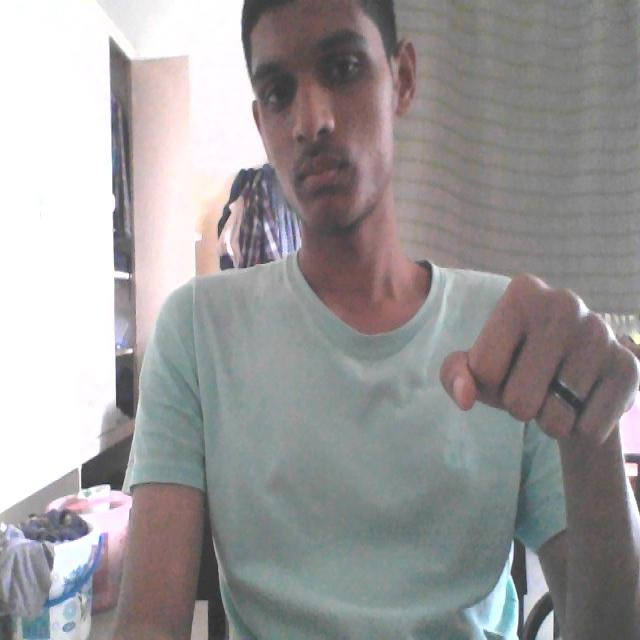No: (463, 253, 640, 451)
